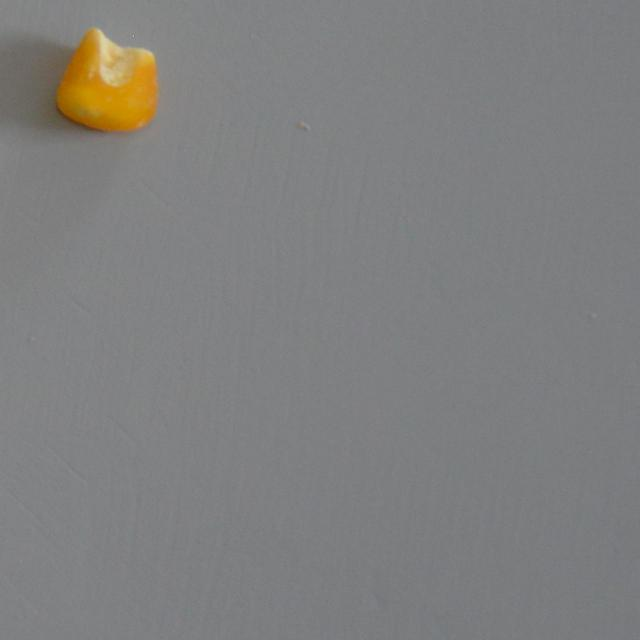no_canjicado: (56, 27, 159, 132)
